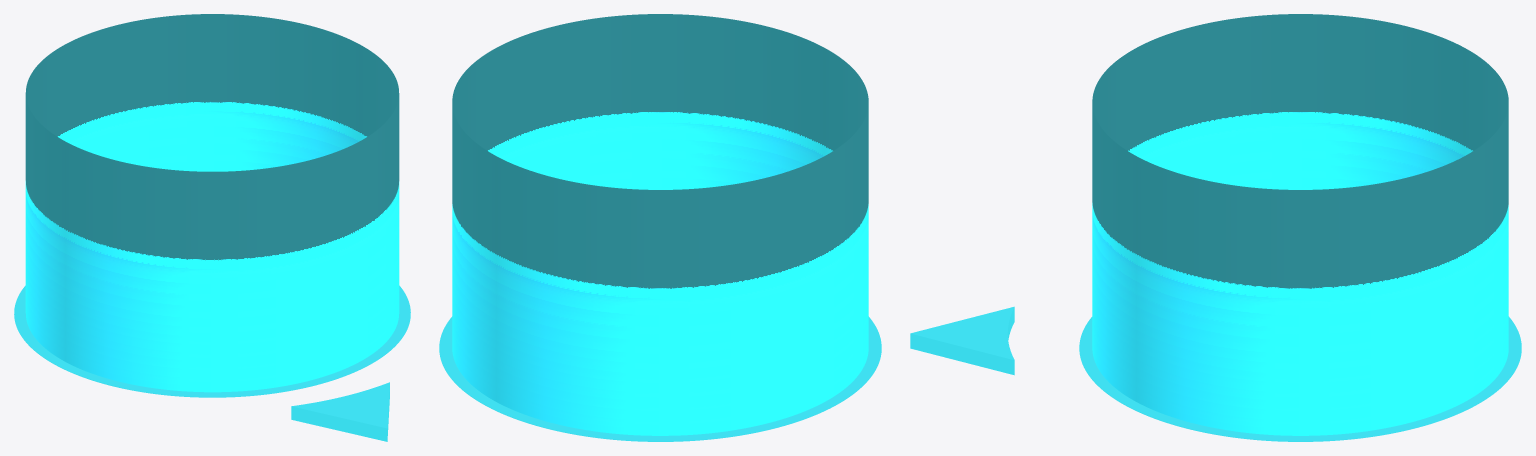
Rendered from TeleportTargetMarker.glb.
3 renders of one model, left to right at view 1: azimuth 30°, elevation 25°; view 2: azimuth 150°, elevation 25°; view 3: azimuth 270°, elevation 25°, orthographic. The views are drawn at different scales.
Visible parts, largest first — view 1: Mesh_1, Mesh_0, Mesh_5; view 2: Mesh_1, Mesh_0; view 3: Mesh_1, Mesh_0, Mesh_5.
Boxes of the visible parts, x1,y1,x2,y2 form: Mesh_1: (25,14,399,392); Mesh_0: (14,285,410,397); Mesh_5: (291,382,389,441); Mesh_1: (452,14,868,435); Mesh_0: (439,316,881,441); Mesh_1: (1092,14,1508,435); Mesh_0: (1079,316,1521,441); Mesh_5: (910,306,1014,375).
Size of the model in its own units: 0.68 by 0.418 by 0.94.
Materials: 5 (1 with a texture image).
